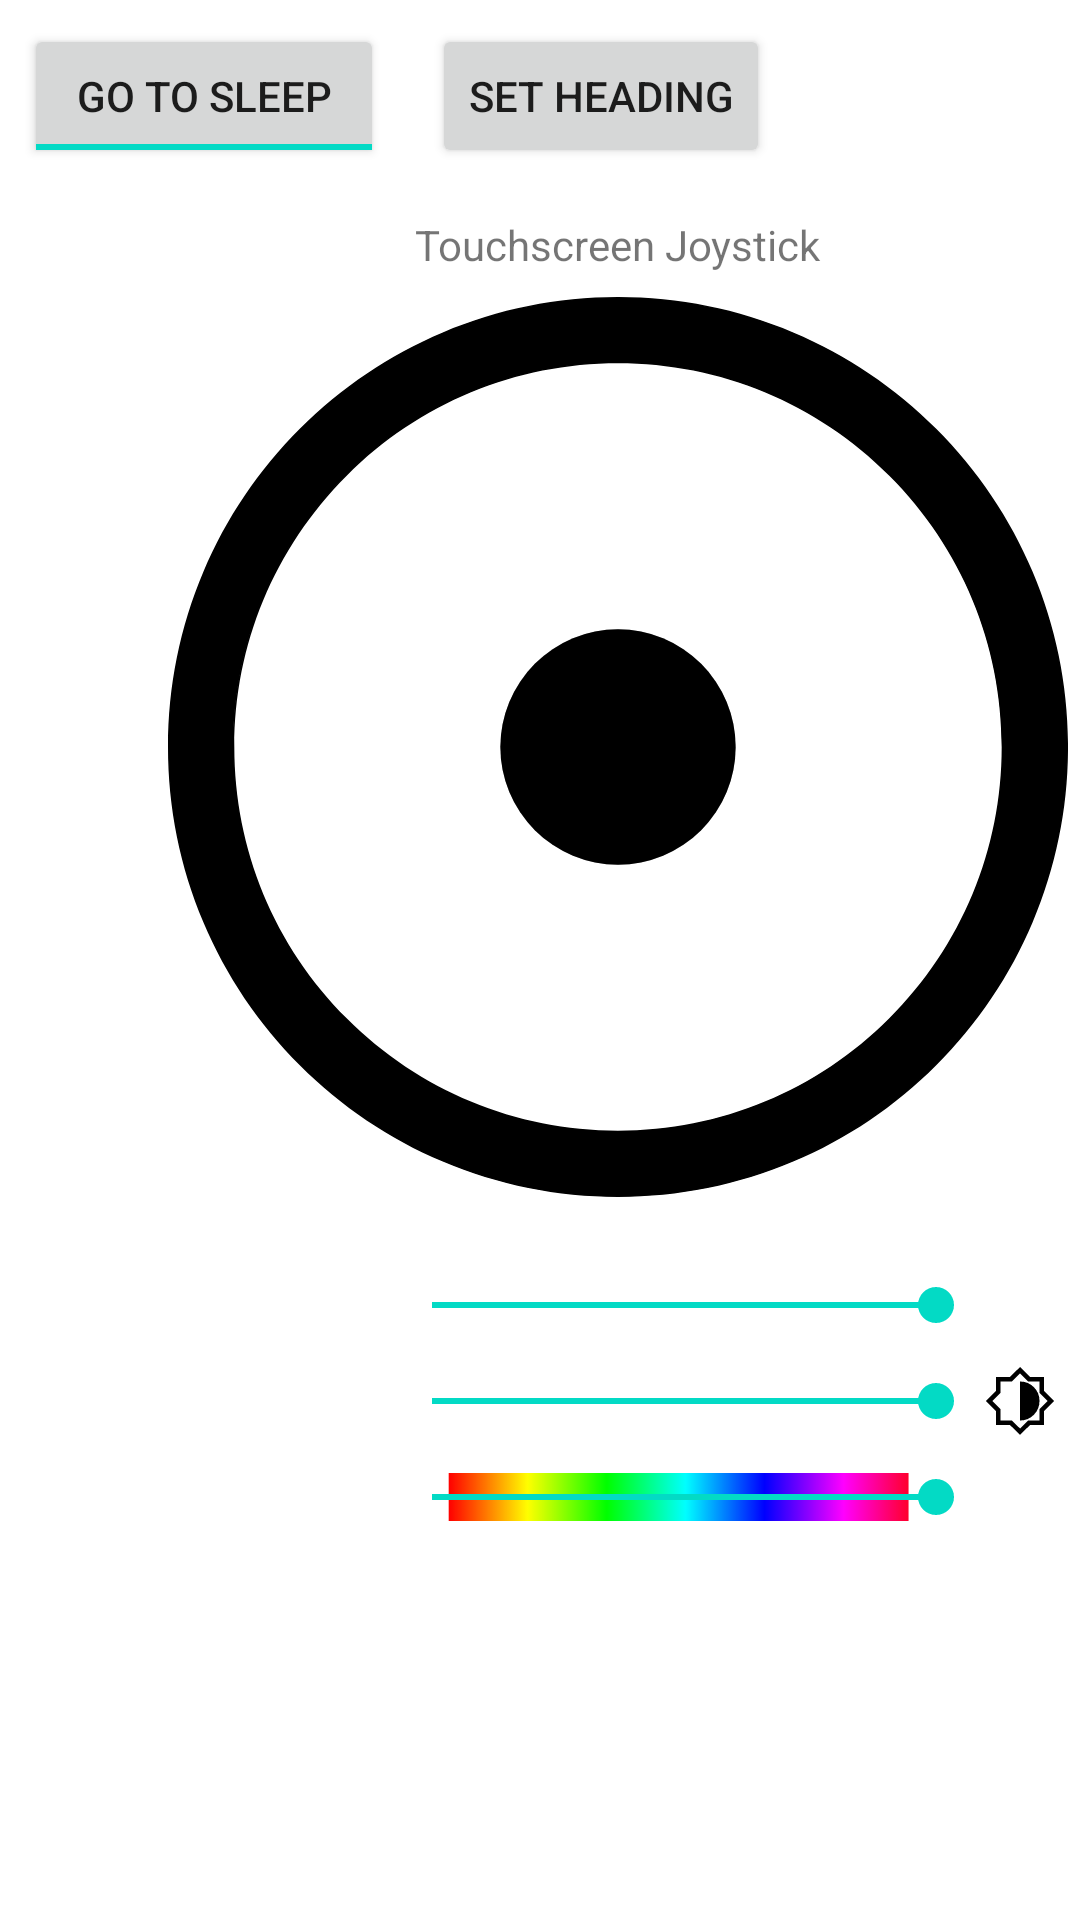

Screen size 1080px×1920px. Icon name, then its center in pixels as (x,y):
brightness: (1020,1401)
